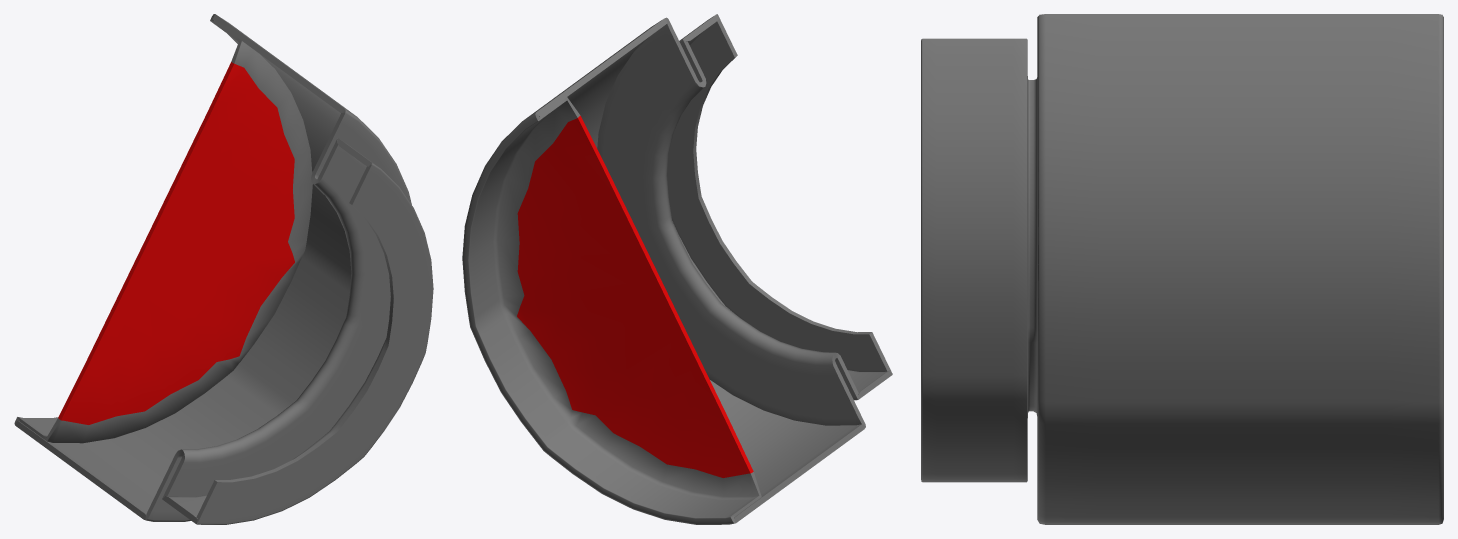
File: Fan01_Broken_52.fbx
3 views of the same model, side by side, from view 1: azimuth 30°, elevation 25°; view 2: azimuth 150°, elevation 25°; view 3: azimuth 270°, elevation 25° (orthographic). The views are drawn at different scales.
Visible parts, largest first — view 1: polySurface251; view 2: polySurface251; view 3: polySurface251.
Part boxes in pixels (x1,y1,x2,y2): polySurface251: (14, 14, 433, 524); polySurface251: (462, 14, 892, 524); polySurface251: (921, 14, 1443, 524).
Size of the model in its own units: 13.26 by 17.43 by 14.37.
